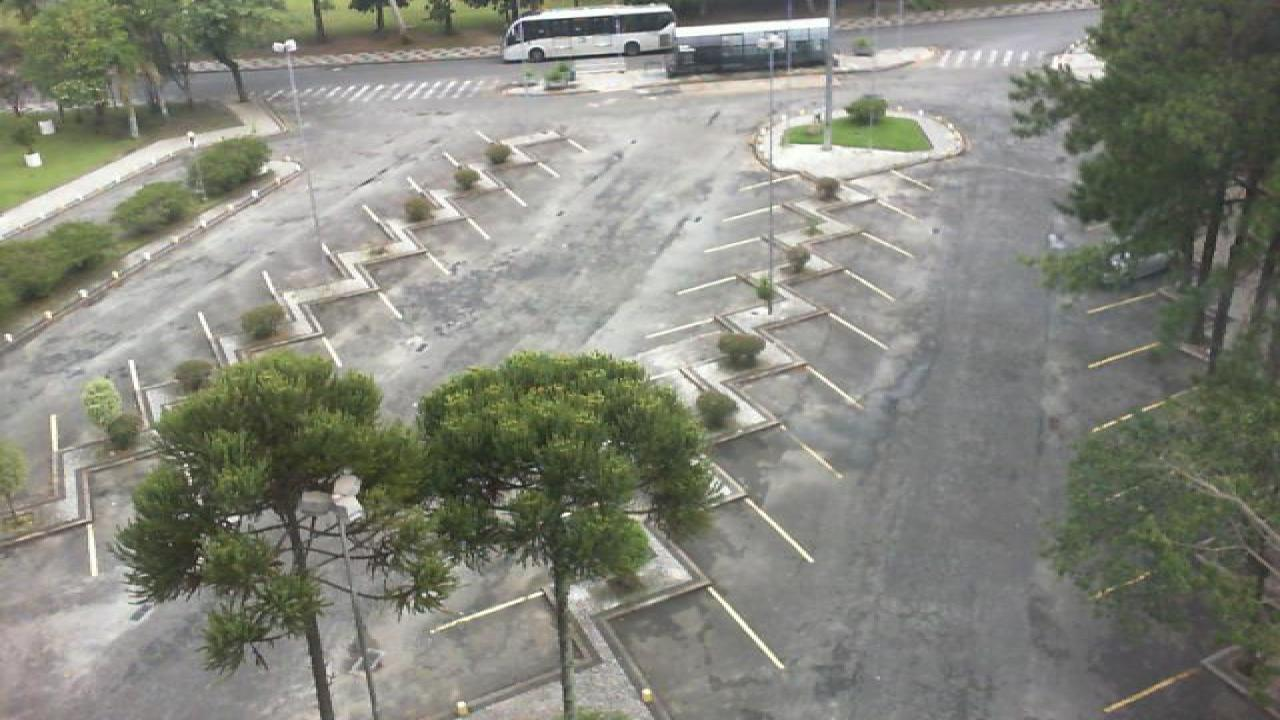Car: (1094, 242, 1174, 286)
